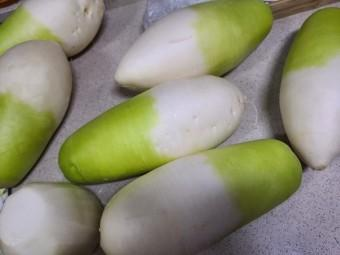radish: (54, 54, 161, 102), (34, 28, 132, 71), (62, 0, 148, 35), (0, 15, 40, 78), (146, 1, 181, 69), (0, 73, 55, 100), (0, 0, 56, 26)
